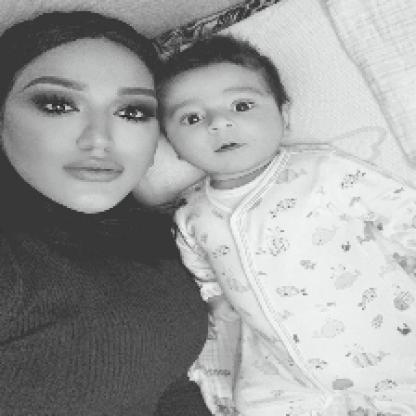child: (159, 33, 416, 416)
